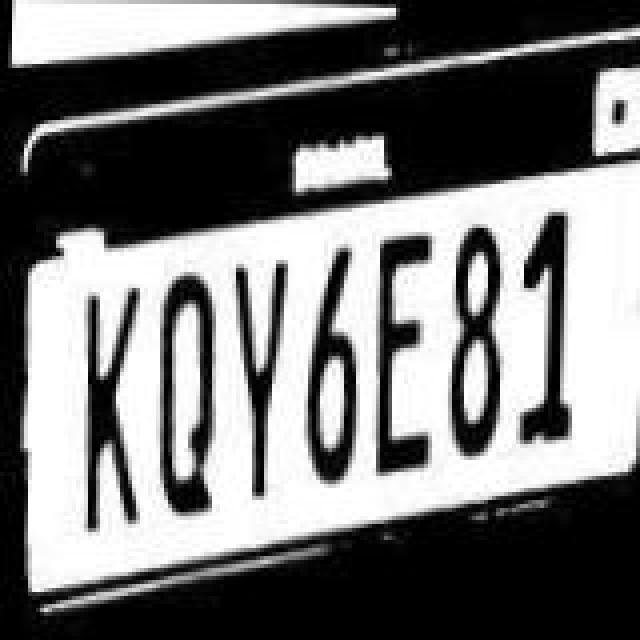1: (508, 206, 580, 458)
6: (296, 238, 364, 486)
8: (438, 216, 506, 464)
E: (364, 224, 440, 488)
K: (74, 276, 142, 532)
Q: (144, 272, 220, 524)
Y: (218, 252, 290, 508)
